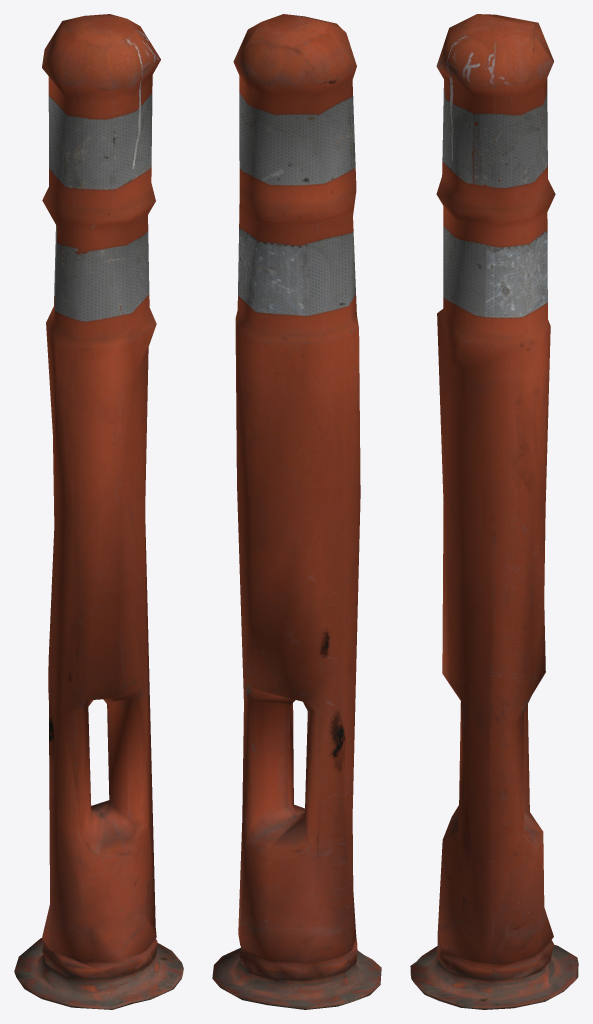
The model's file is bollard_post.glb.
3 renders of one model, left to right at view 1: azimuth 30°, elevation 25°; view 2: azimuth 150°, elevation 25°; view 3: azimuth 270°, elevation 25°, orthographic.
Parts seen in each view (by area): view 1: vjxscee_LOD0_TIER3_000; view 2: vjxscee_LOD0_TIER3_000; view 3: vjxscee_LOD0_TIER3_000.
Part boxes in pixels (x1,y1,x2,y2): vjxscee_LOD0_TIER3_000: [14, 14, 183, 1009]; vjxscee_LOD0_TIER3_000: [212, 14, 381, 1009]; vjxscee_LOD0_TIER3_000: [410, 14, 578, 1009].
Bounding box in the file's own units: 0.1636 × 1.01 × 0.1609.
Materials: 1 (1 with a texture image).
